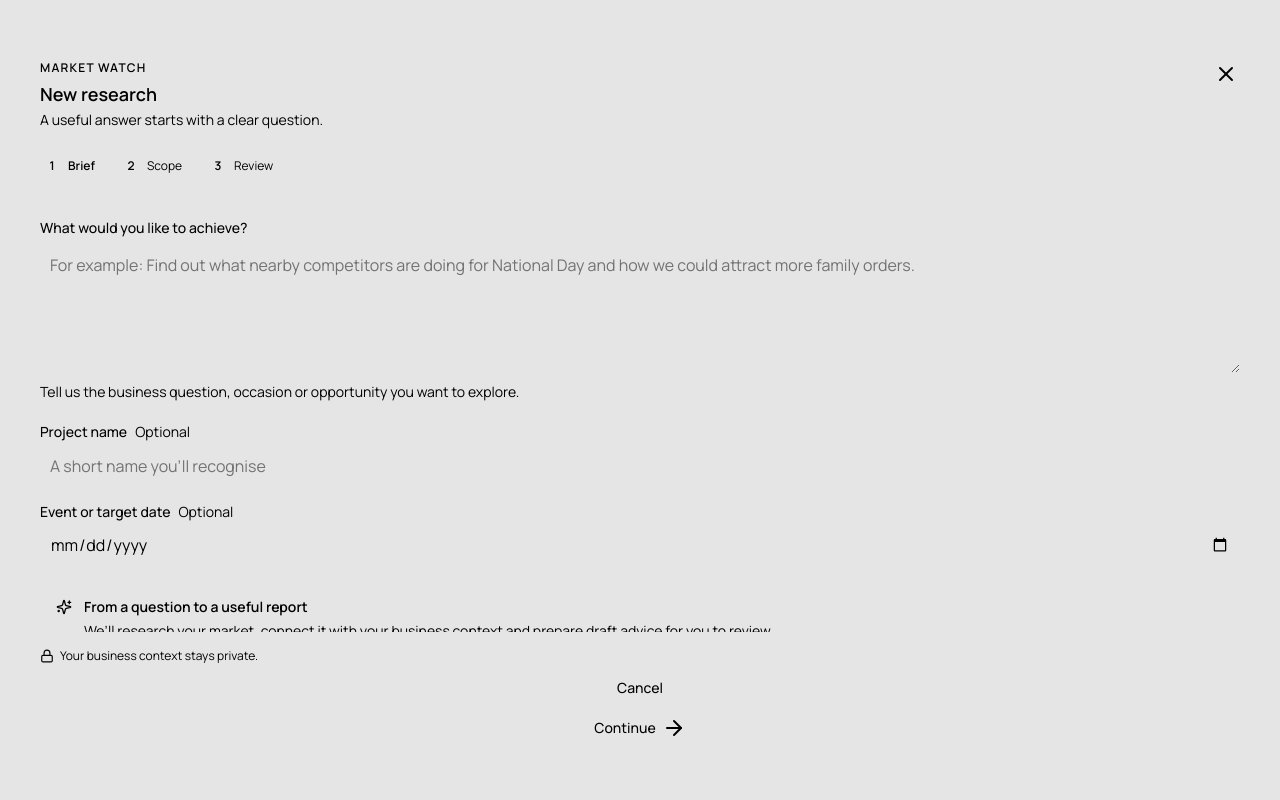
Test case: NewResearchDialog review step › requires an explicit one-time or monitoring choice before starting
The image size is (1280, 800).
Replace the text in the text box labelled "What would you like to achieve?" with "How should we prepare for National Day?" at (640,309), box top-left (40, 245), bottom-right (1240, 373)
Click the button "Continue" at (640,728), box top-left (40, 712), bottom-right (1240, 744)
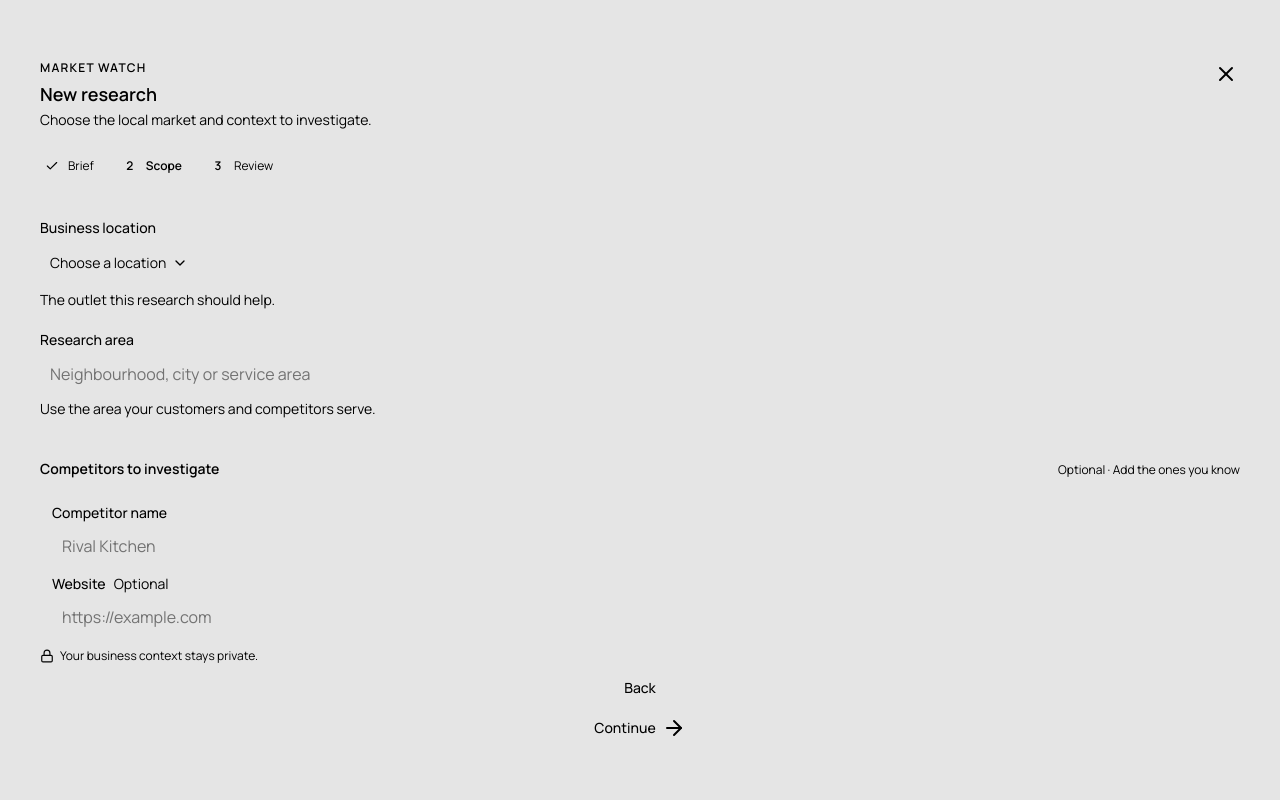
expect the dropdown named "business location" is shown: met
Click the dropdown named "business location" at (118,263), box top-left (40, 245), bottom-right (196, 281)
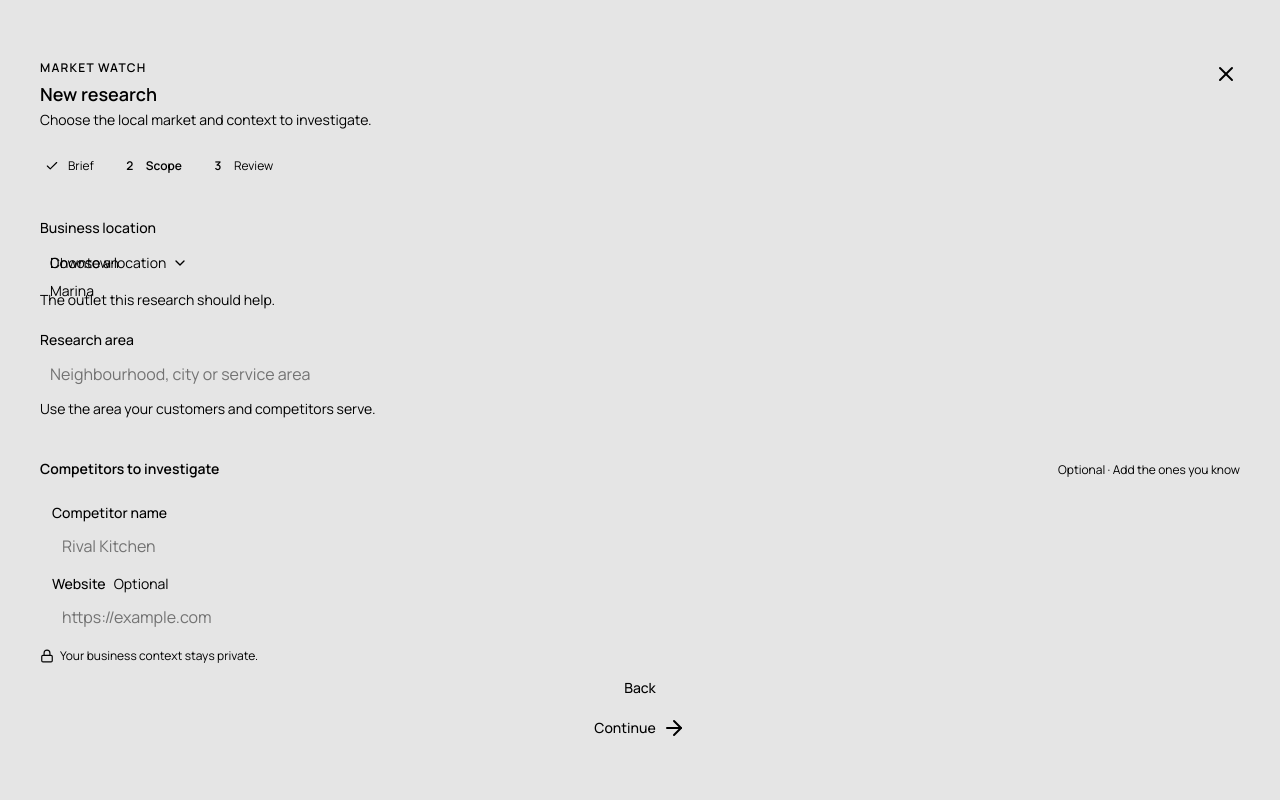
Click the option "Downtown" at (84,263), box top-left (50, 253), bottom-right (119, 272)
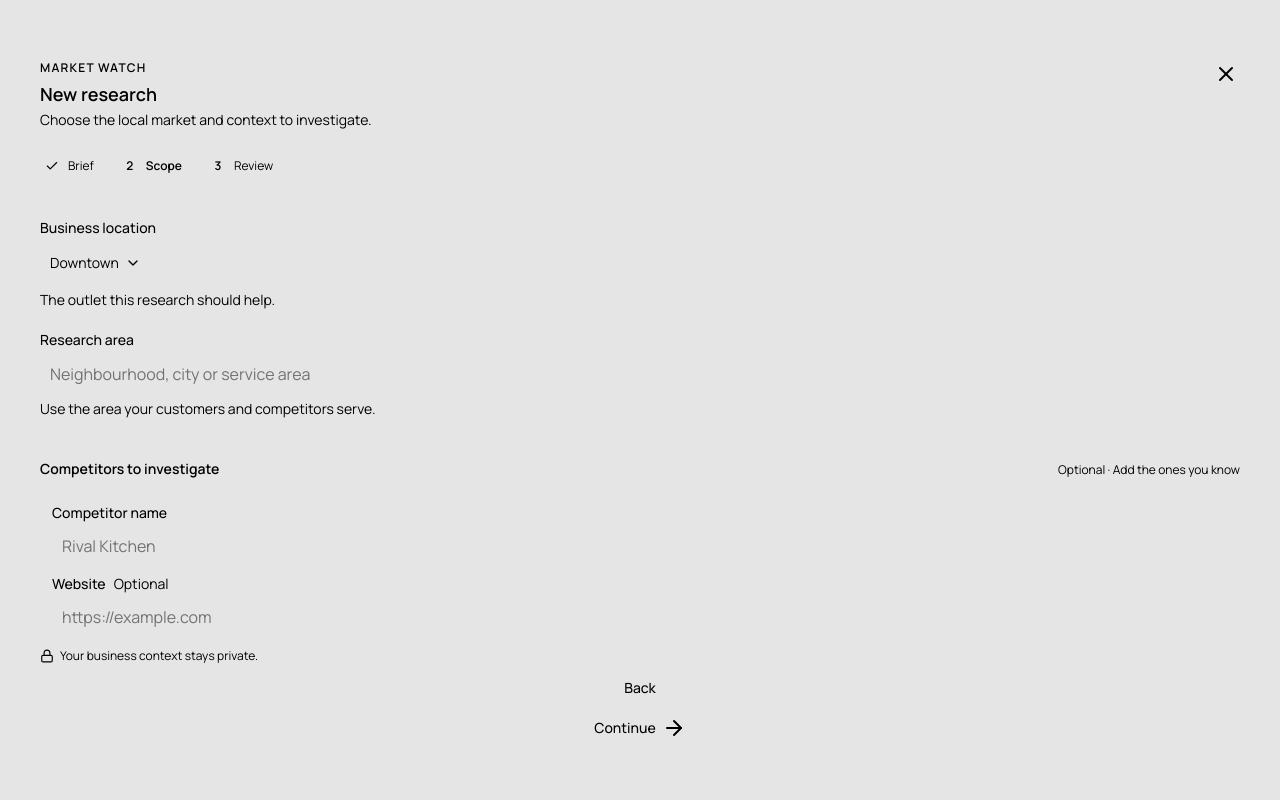
Type "Downtown Dubai" into the field labelled "Research area" at (640,374), box top-left (40, 358), bottom-right (1240, 390)
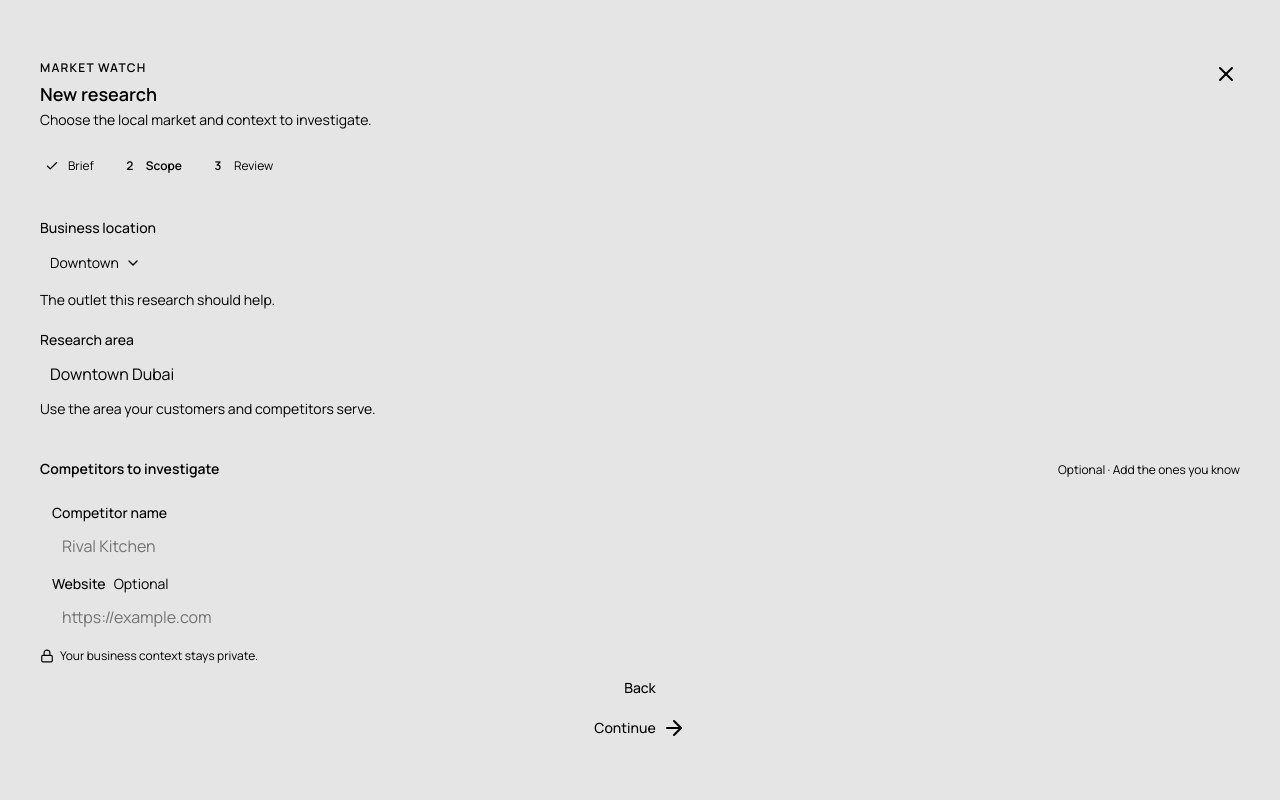
Click the button "Continue" at (640,728), box top-left (40, 712), bottom-right (1240, 744)
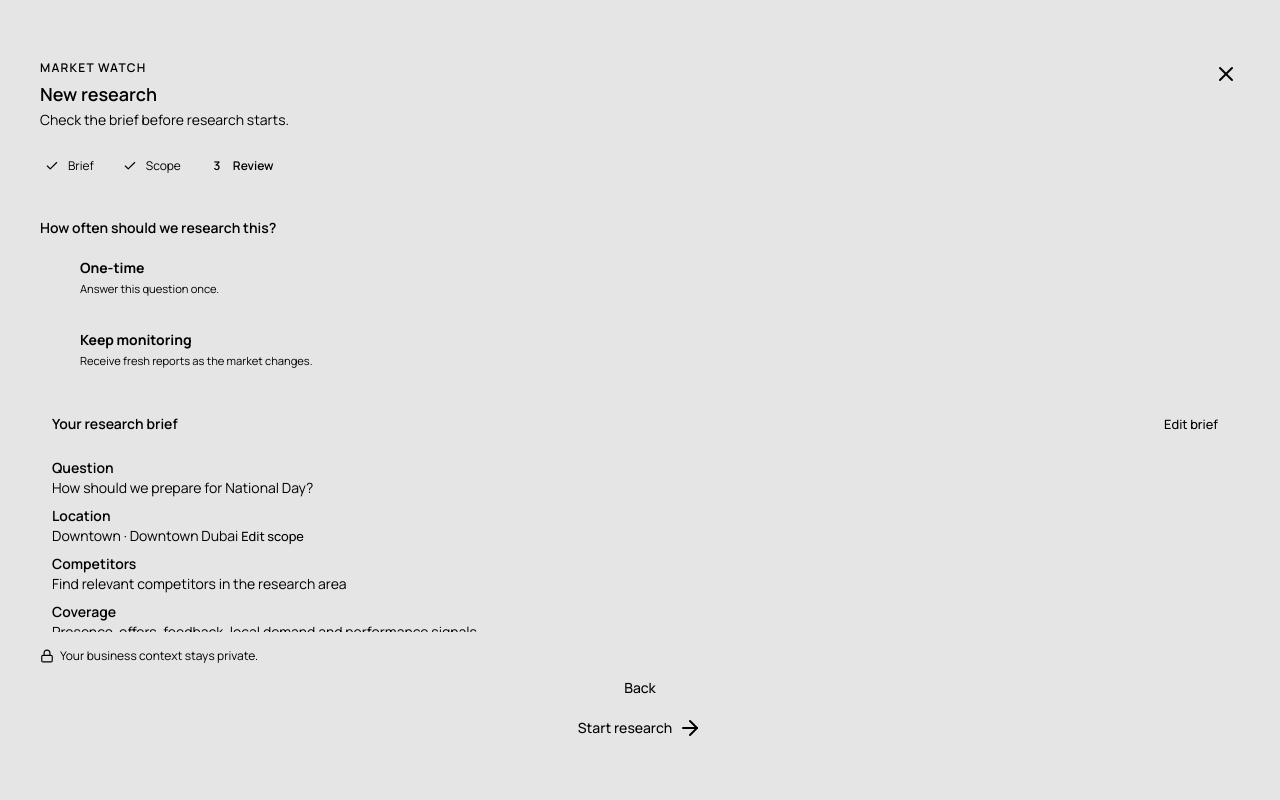
expect the text "How often should we research this?" is shown: met, box top-left (40, 218), bottom-right (276, 238)
Click the button "Start research" at (640,728), box top-left (40, 712), bottom-right (1240, 744)
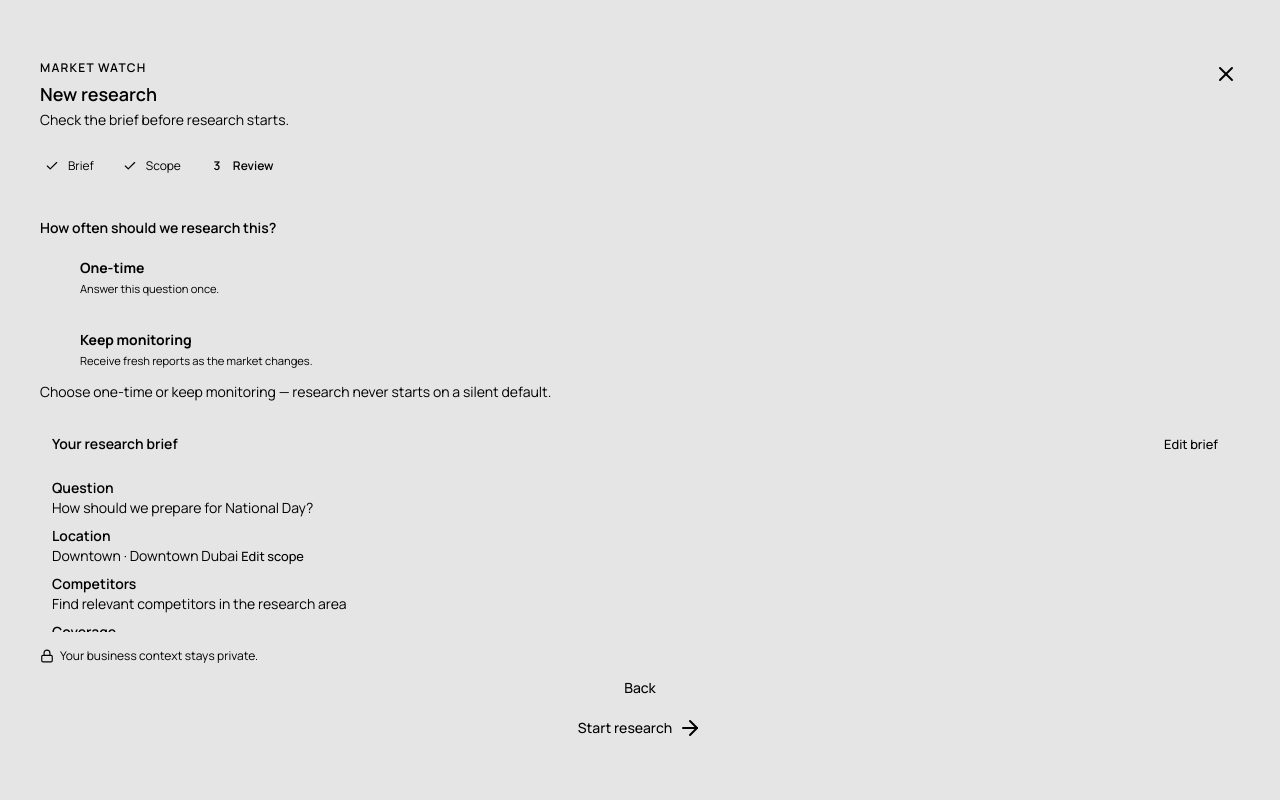
expect the text "never starts on a silent default" is shown: met, box top-left (40, 382), bottom-right (551, 401)
